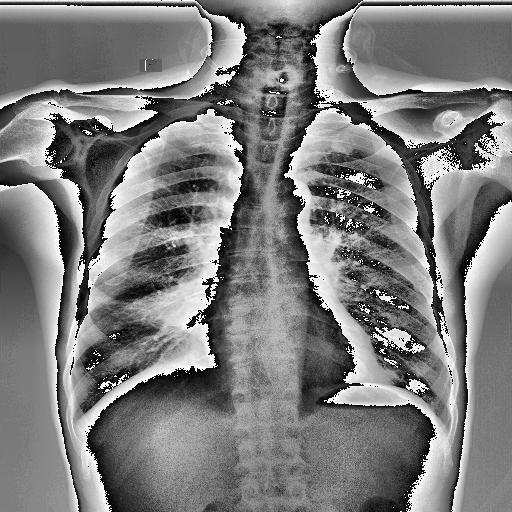1- Atelectasis: (141, 280, 221, 350)
4- Consolidation: (141, 280, 221, 350), (142, 278, 223, 342)
7- Lung Opacity: (136, 280, 210, 348)
